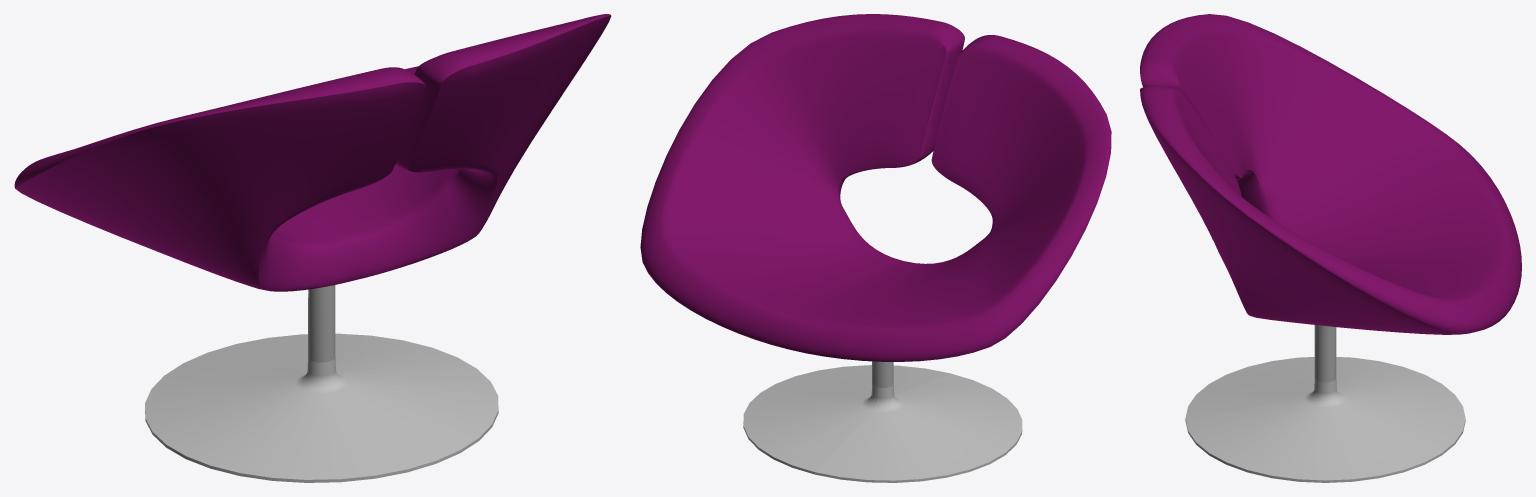
3 renders of one model, left to right at view 1: azimuth 30°, elevation 25°; view 2: azimuth 150°, elevation 25°; view 3: azimuth 270°, elevation 25°, orthographic. The views are drawn at different scales.
Visible parts, largest first — view 1: mesh6_mesh6-geometry, mesh3_mesh3-geometry, mesh7_mesh7-geometry, mesh4_mesh4-geometry, mesh5_mesh5-geometry; view 2: mesh3_mesh3-geometry, mesh6_mesh6-geometry, mesh7_mesh7-geometry, mesh4_mesh4-geometry; view 3: mesh6_mesh6-geometry, mesh3_mesh3-geometry, mesh4_mesh4-geometry, mesh7_mesh7-geometry, mesh2_mesh2-geometry.
Part boxes in pixels (x1=…): mesh6_mesh6-geometry: x1=14, y1=67, x2=425, y2=291; mesh3_mesh3-geometry: x1=315, y1=14, x2=611, y2=279; mesh7_mesh7-geometry: x1=145, y1=344, x2=407, y2=482; mesh4_mesh4-geometry: x1=236, y1=333, x2=498, y2=472; mesh5_mesh5-geometry: x1=308, y1=286, x2=328, y2=362; mesh3_mesh3-geometry: x1=640, y1=14, x2=964, y2=349; mesh6_mesh6-geometry: x1=789, y1=35, x2=1111, y2=361; mesh7_mesh7-geometry: x1=815, y1=373, x2=1022, y2=482; mesh4_mesh4-geometry: x1=743, y1=365, x2=949, y2=474; mesh6_mesh6-geometry: x1=1140, y1=14, x2=1521, y2=263; mesh3_mesh3-geometry: x1=1140, y1=86, x2=1521, y2=334; mesh4_mesh4-geometry: x1=1185, y1=378, x2=1465, y2=482; mesh7_mesh7-geometry: x1=1185, y1=357, x2=1465, y2=418; mesh2_mesh2-geometry: x1=1314, y1=325, x2=1336, y2=382.
Bounding box in the file's own units: 0.6691 × 0.5255 × 0.5256.
